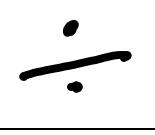div: (17, 20, 132, 93)
